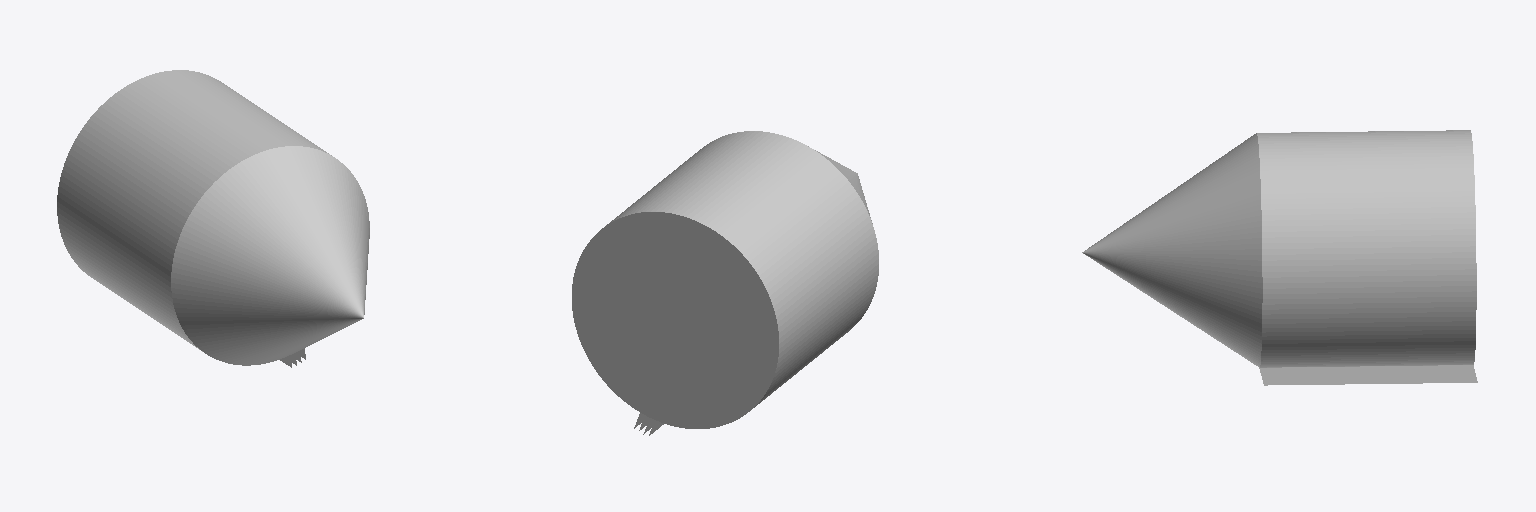
File: rocket.obj
3 views of the same model, side by side, from view 1: azimuth 30°, elevation 25°; view 2: azimuth 150°, elevation 25°; view 3: azimuth 270°, elevation 25° (orthographic).
Visible parts, largest first — view 1: Cone; view 2: Cone; view 3: Cone.
Part boxes in pixels (left/top/right/bottom): Cone: left=57, top=70, right=369, bottom=367; Cone: left=572, top=131, right=878, bottom=435; Cone: left=1082, top=130, right=1477, bottom=385.
Size of the model in its own units: 2.07 by 2.14 by 3.37.